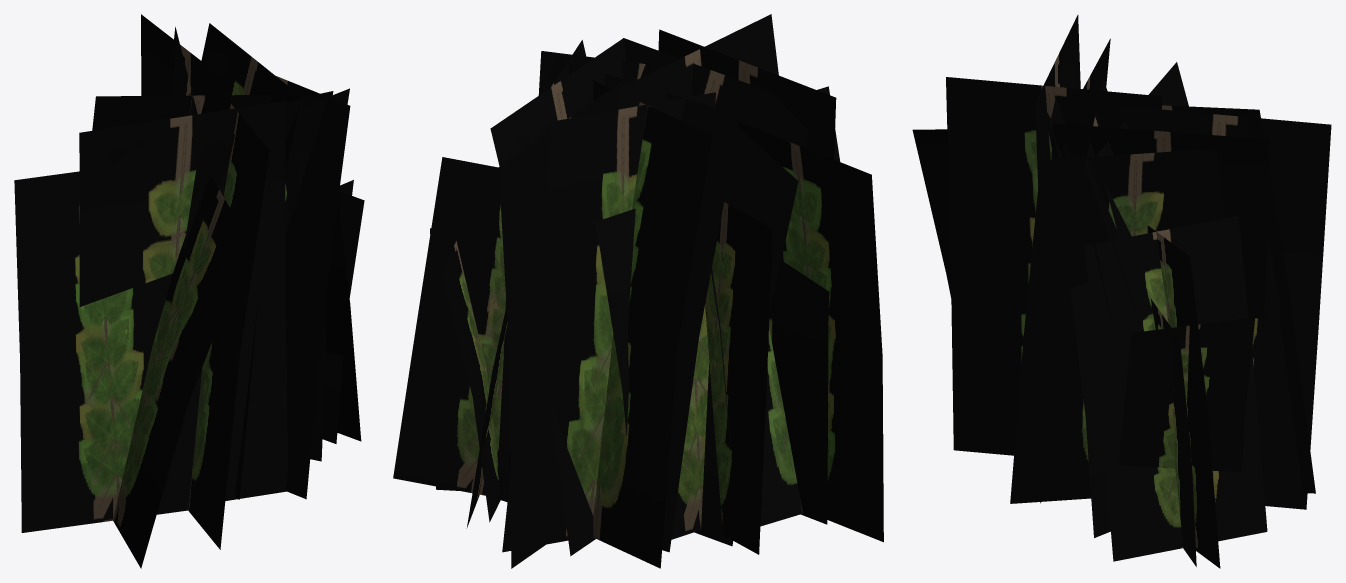
File: kopriva_3.glb
3 renders of one model, left to right at view 1: azimuth 30°, elevation 25°; view 2: azimuth 150°, elevation 25°; view 3: azimuth 270°, elevation 25°, orthographic. The views are drawn at different scales.
Visible parts, largest first — view 1: kopriva_3; view 2: kopriva_3; view 3: kopriva_3.
Part boxes in pixels (x1,y1,x2,y2): kopriva_3: (14, 14, 364, 568); kopriva_3: (393, 14, 883, 568); kopriva_3: (912, 15, 1331, 568).
Bounding box in the file's own units: 1.31 × 1.3 × 1.2.
1 material, 1 textured.
